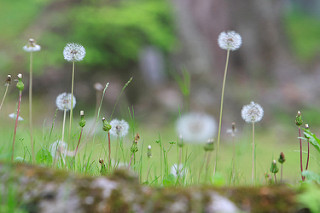dandelion: (213, 27, 248, 61), (98, 113, 131, 146), (235, 99, 271, 126), (58, 37, 91, 66), (53, 86, 79, 117)
